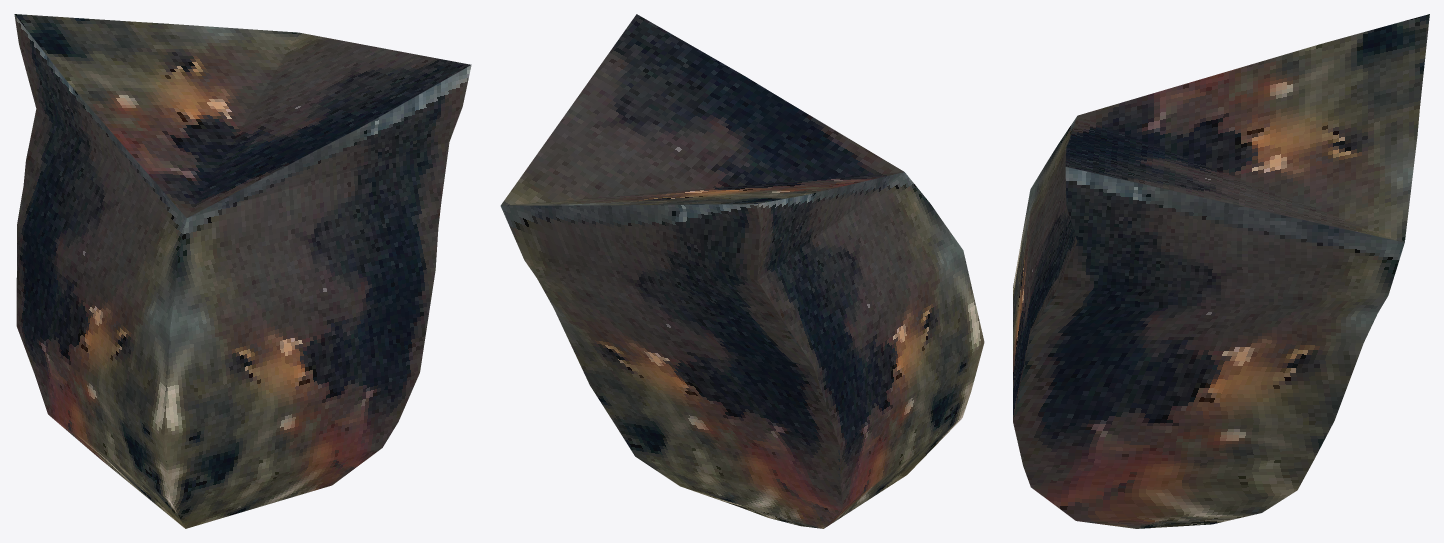
3 views of the same model, side by side, from view 1: azimuth 30°, elevation 25°; view 2: azimuth 150°, elevation 25°; view 3: azimuth 270°, elevation 25° (orthographic). The views are drawn at different scales.
Visible parts, largest first — view 1: SPLICE_3; view 2: SPLICE_3; view 3: SPLICE_3.
Part boxes in pixels (<box>): SPLICE_3: <box>14,14,471,528</box>; SPLICE_3: <box>500,14,984,528</box>; SPLICE_3: <box>1013,14,1429,528</box>.
Size of the model in its own units: 1.4 by 1.7 by 1.4.
1 material, 1 textured.
